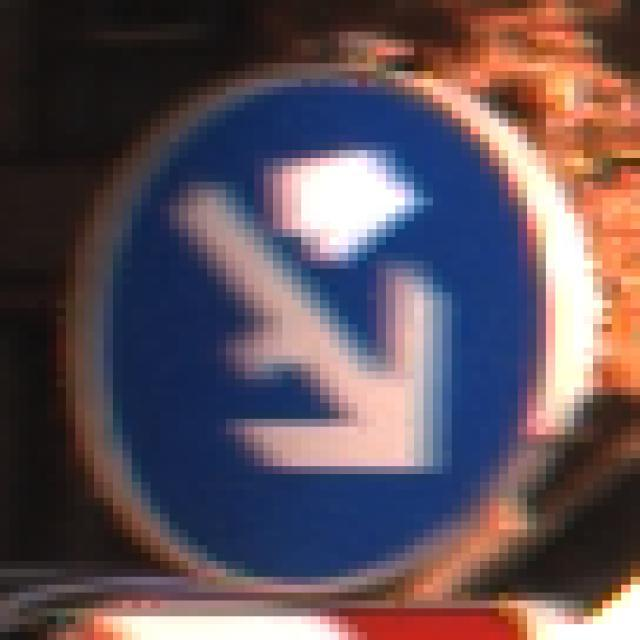compulsary keep right: (67, 68, 577, 600)
